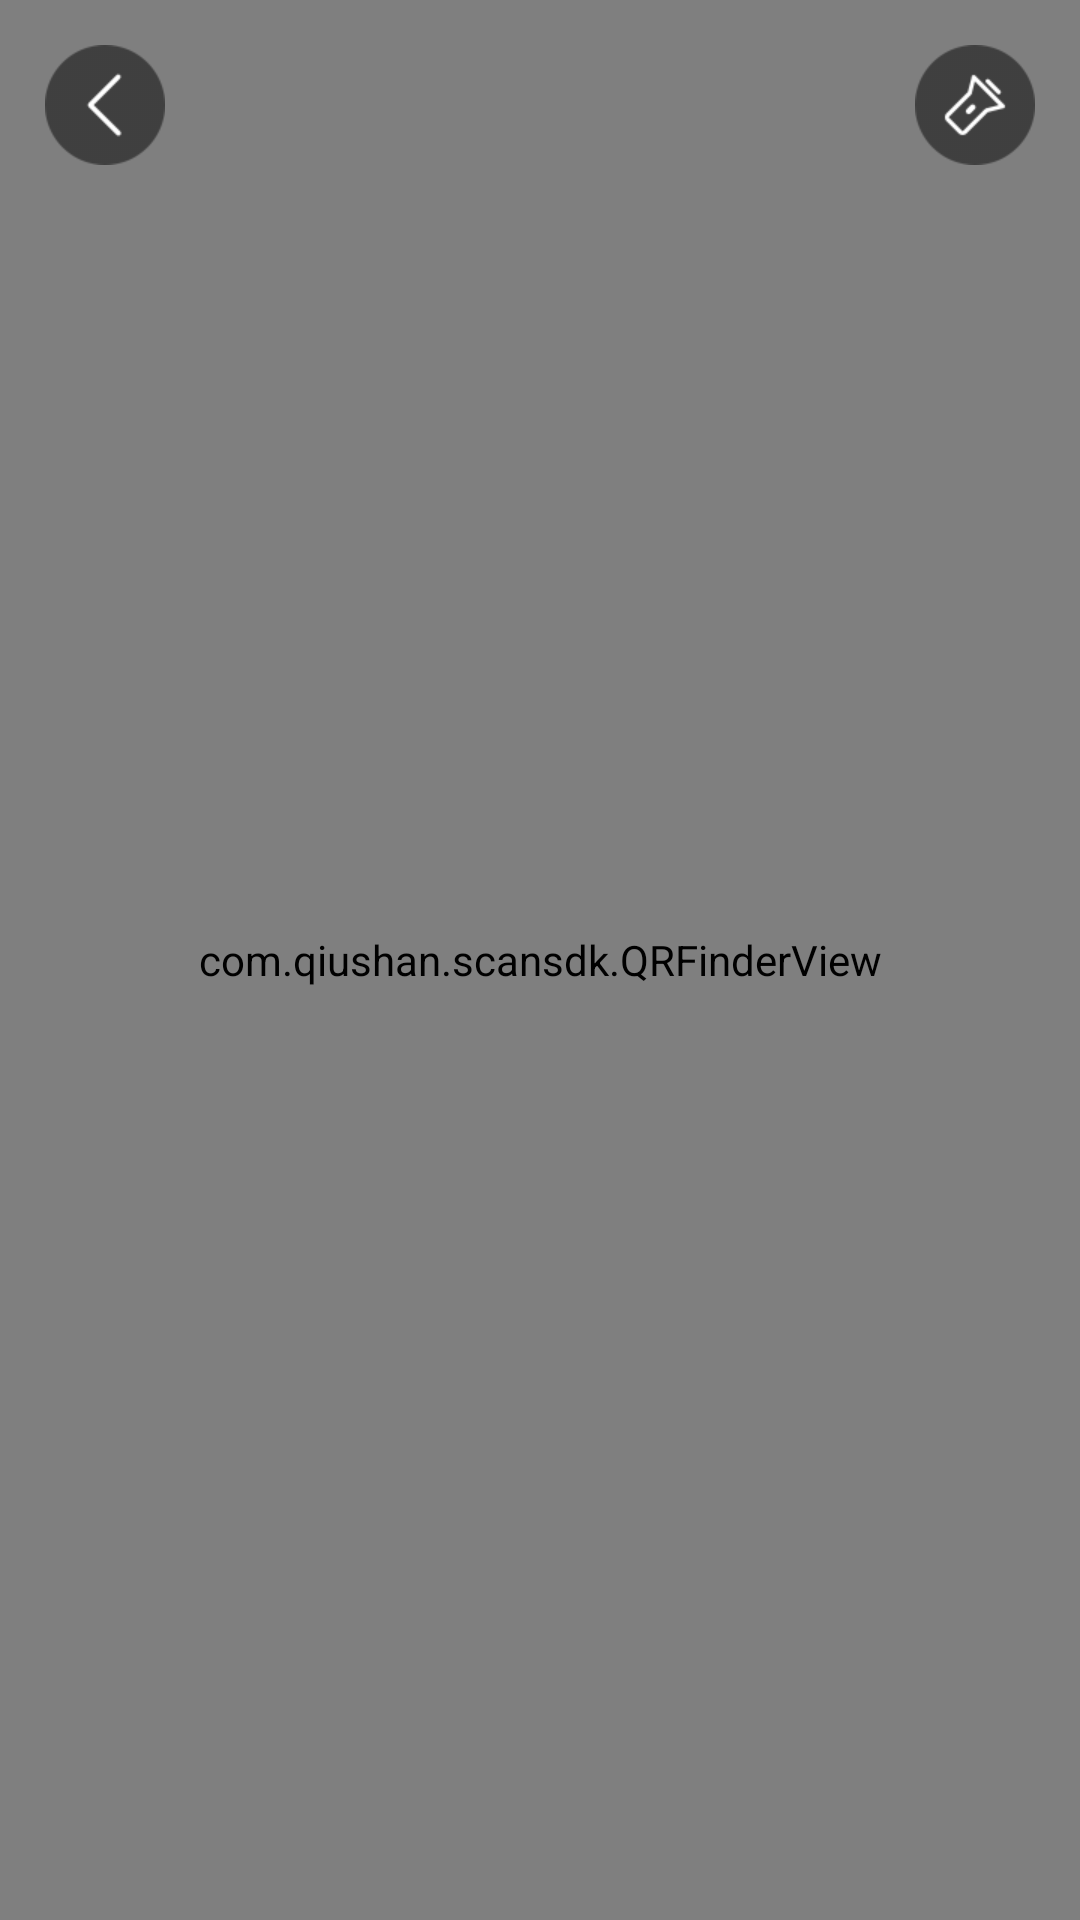

Screen size 1080x1920. Icon name, then its box in pixels as (x1, y1, x2, y2):
back: (45, 45, 165, 165)
